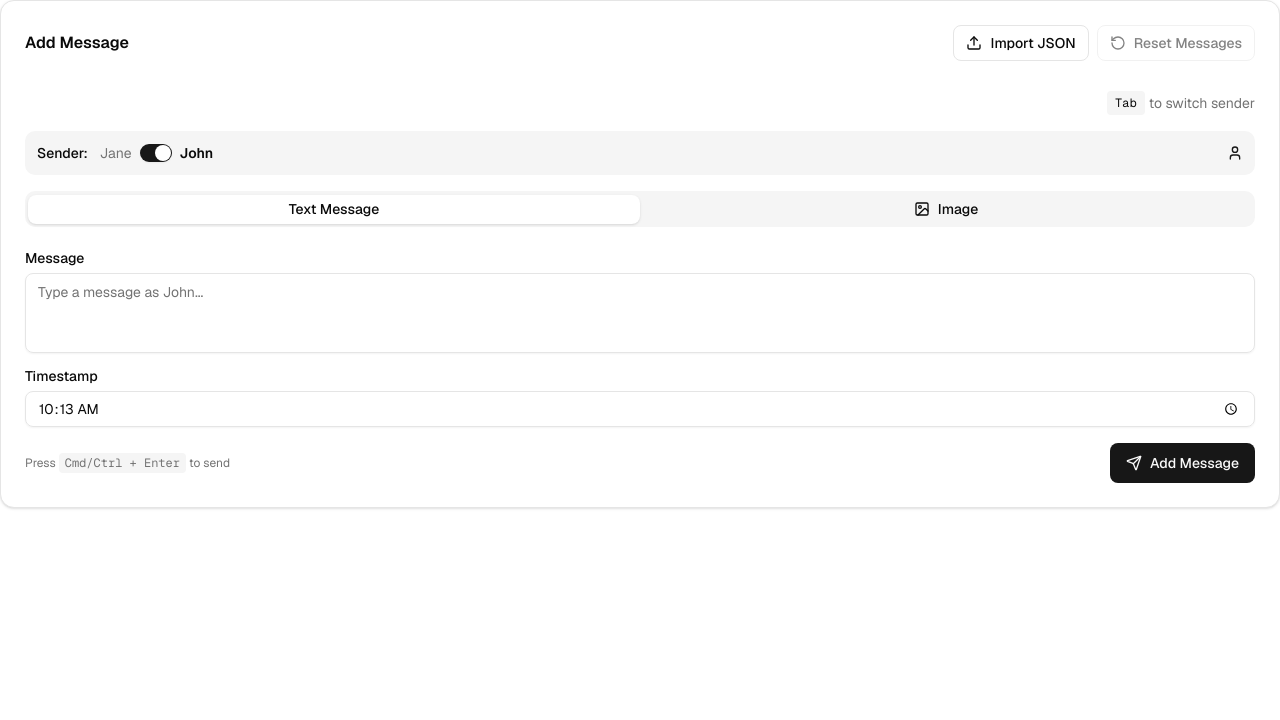
Scenario: MessageForm JSON Import › JSON Import Button › opens format dialog when import button is clicked
The width and height of the screenshot is (1280, 720).
Click the button "Import JSON" at (1021,43), box [953,25,1089,61]
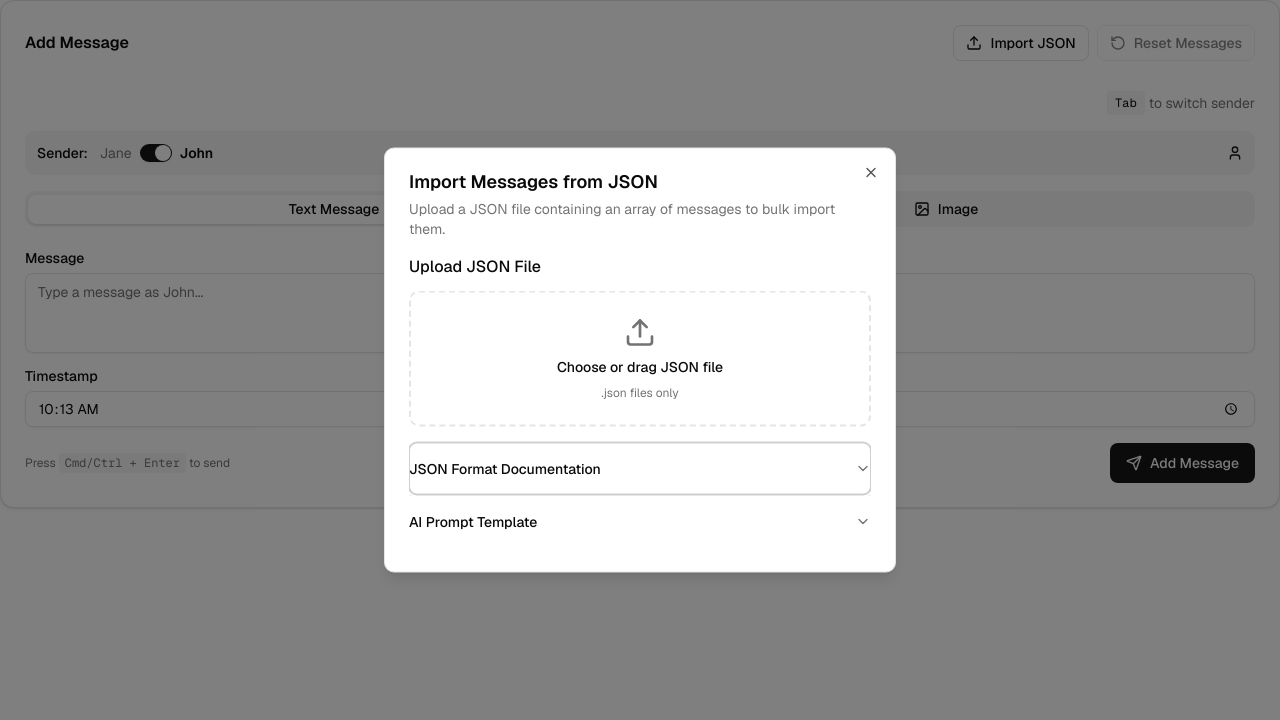
Expected: the button "JSON Format Documentation" is shown, [409,442,871,494]
Expected: the heading "Upload JSON File" is shown, [409,256,541,276]
